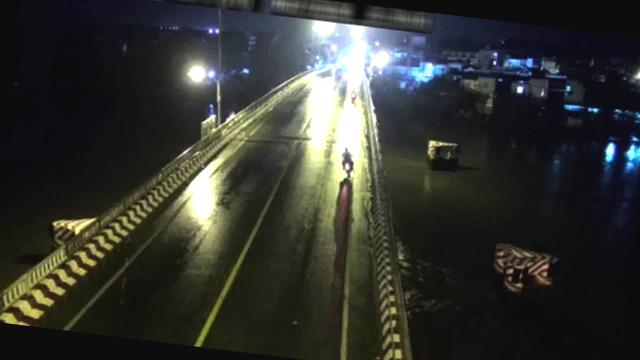Bike: (334, 144, 357, 178)
